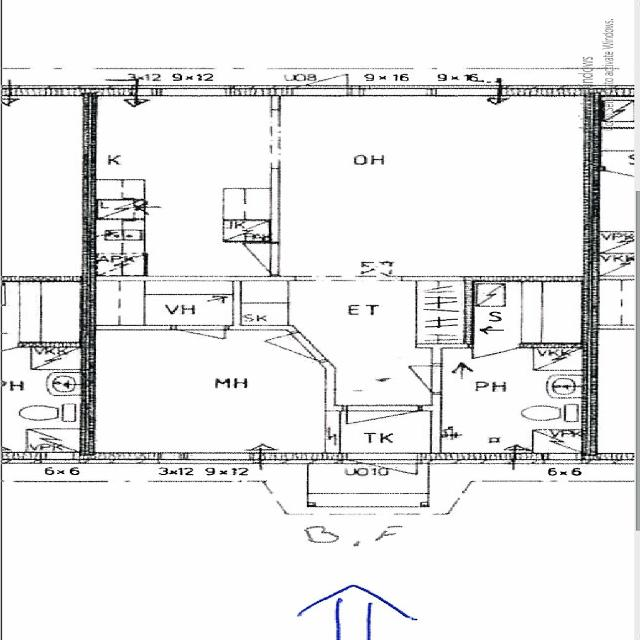door: (234, 332, 328, 375), (347, 453, 419, 498), (346, 406, 418, 446), (205, 243, 280, 274), (293, 59, 348, 95), (375, 366, 441, 392), (176, 324, 225, 354), (475, 343, 519, 369)
